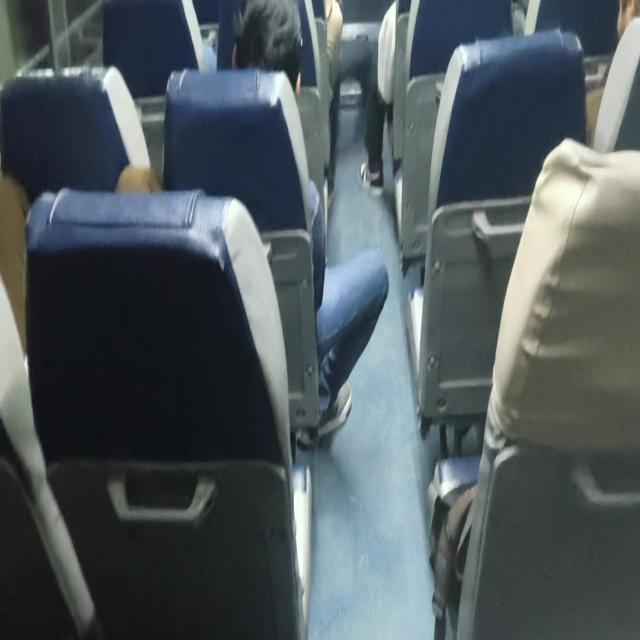person: (229, 0, 390, 444), (358, 0, 410, 196), (589, 0, 639, 152), (230, 0, 303, 100), (311, 0, 344, 198), (616, 0, 639, 39)
